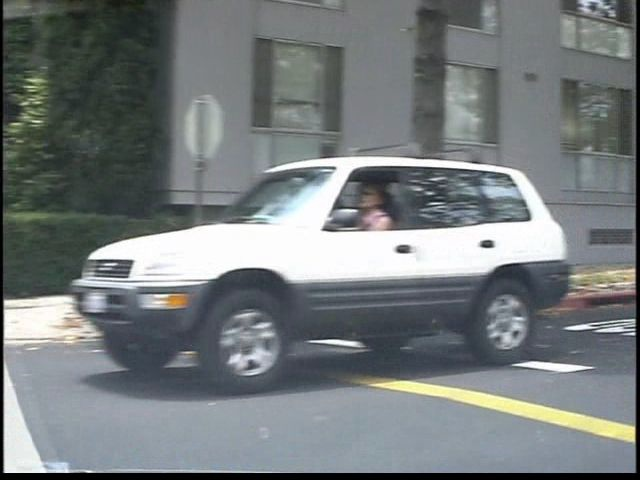person: (374, 174, 425, 369)
